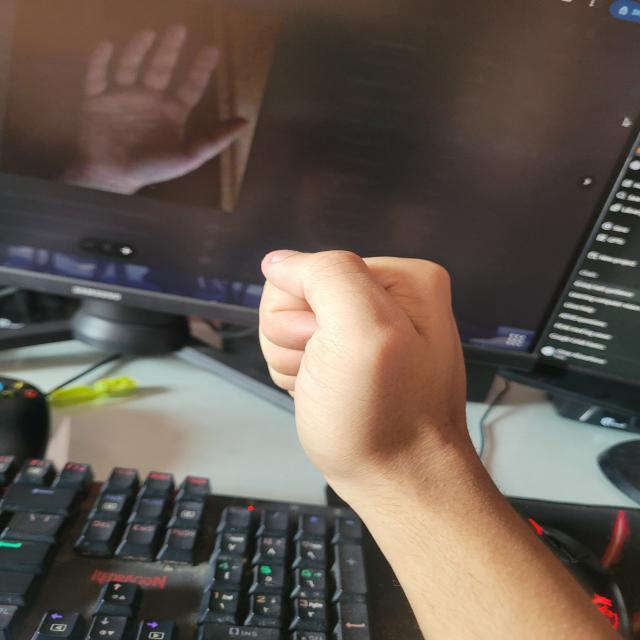Closed Hand: (258, 248, 498, 492)
